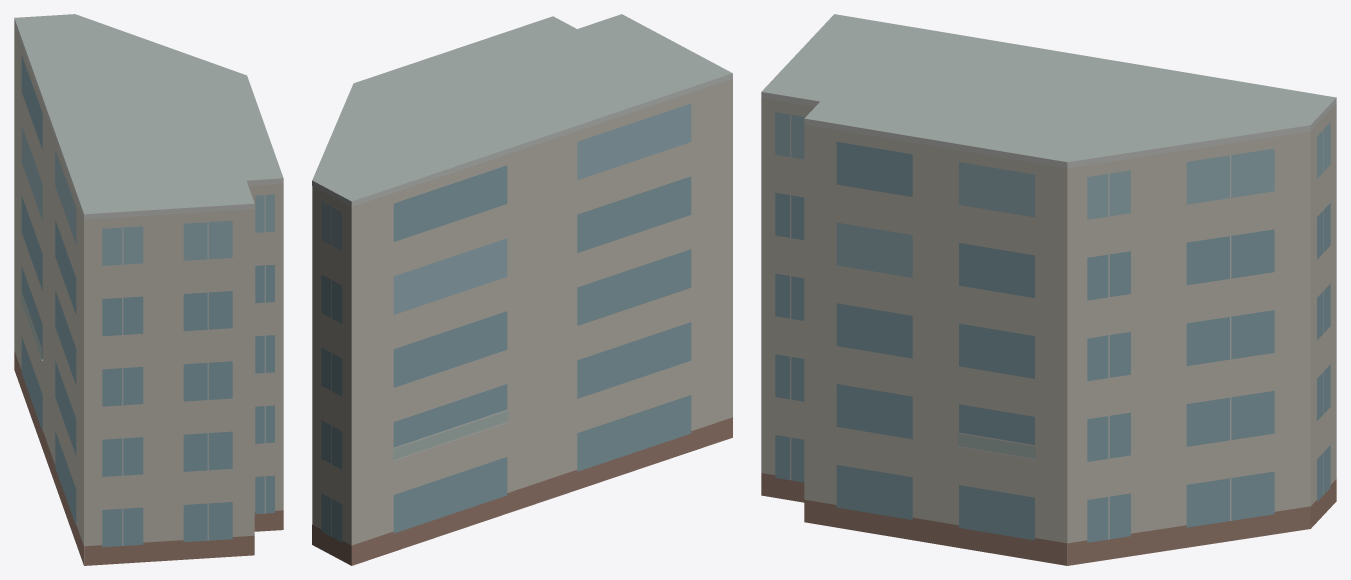
Rendered from survey-upis-33000300.glb.
3 renders of one model, left to right at view 1: azimuth 30°, elevation 25°; view 2: azimuth 150°, elevation 25°; view 3: azimuth 270°, elevation 25°, orthographic. The views are drawn at different scales.
Visible parts, largest first — view 1: survey-upis-33000300.tmp; view 2: survey-upis-33000300.tmp; view 3: survey-upis-33000300.tmp.
Boxes of the visible parts, box(x1,y1,x2,y2) form: survey-upis-33000300.tmp: box(14, 14, 283, 565); survey-upis-33000300.tmp: box(312, 14, 732, 565); survey-upis-33000300.tmp: box(761, 14, 1336, 565).
Size of the model in its own units: 12.76 by 16.2 by 20.93.
